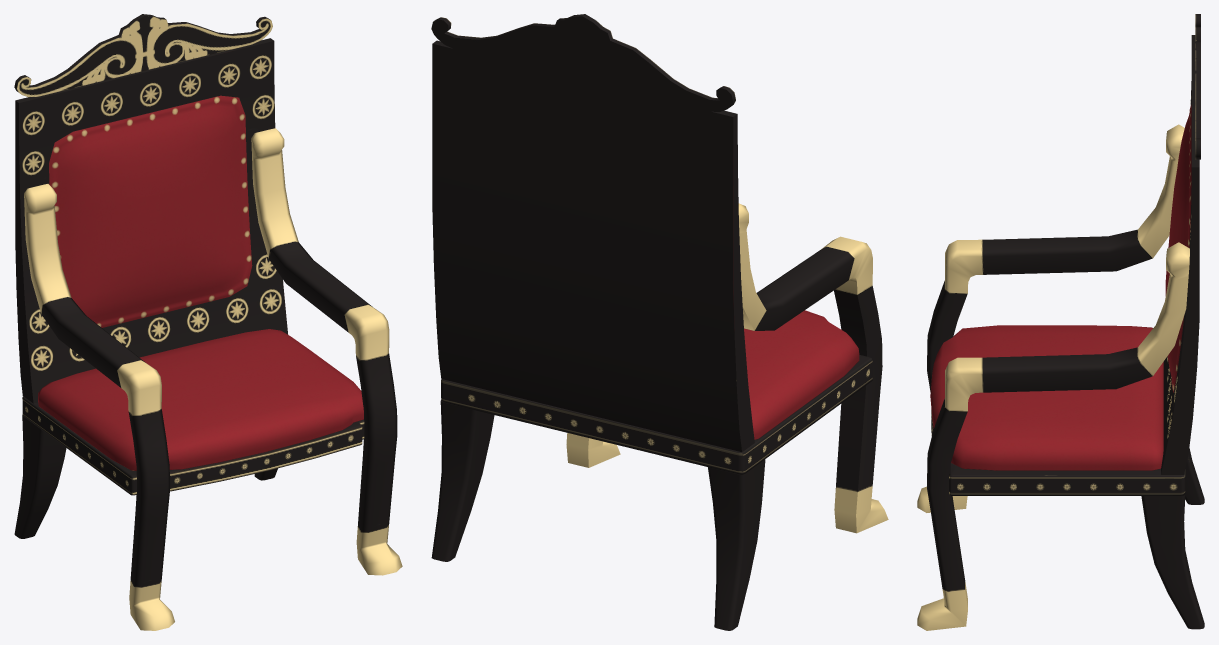
The picture shows the model from 3 angles, left to right: view 1: azimuth 30°, elevation 25°; view 2: azimuth 150°, elevation 25°; view 3: azimuth 270°, elevation 25°; orthographic projection. The views are drawn at different scales.
Parts seen in each view (by area): view 1: Throne_final, Headpiece_low; view 2: Throne_final, Headpiece_low; view 3: Throne_final, Headpiece_low.
Boxes of the visible parts, bbox=[...] form: Throne_final: bbox=[14, 38, 402, 630]; Headpiece_low: bbox=[14, 14, 272, 97]; Throne_final: bbox=[431, 40, 888, 630]; Headpiece_low: bbox=[431, 14, 735, 111]; Throne_final: bbox=[917, 35, 1204, 630]; Headpiece_low: bbox=[1195, 14, 1200, 159].
Size of the model in its own units: 0.6995 by 1.25 by 0.6253.
Materials: 1 (1 with a texture image).
